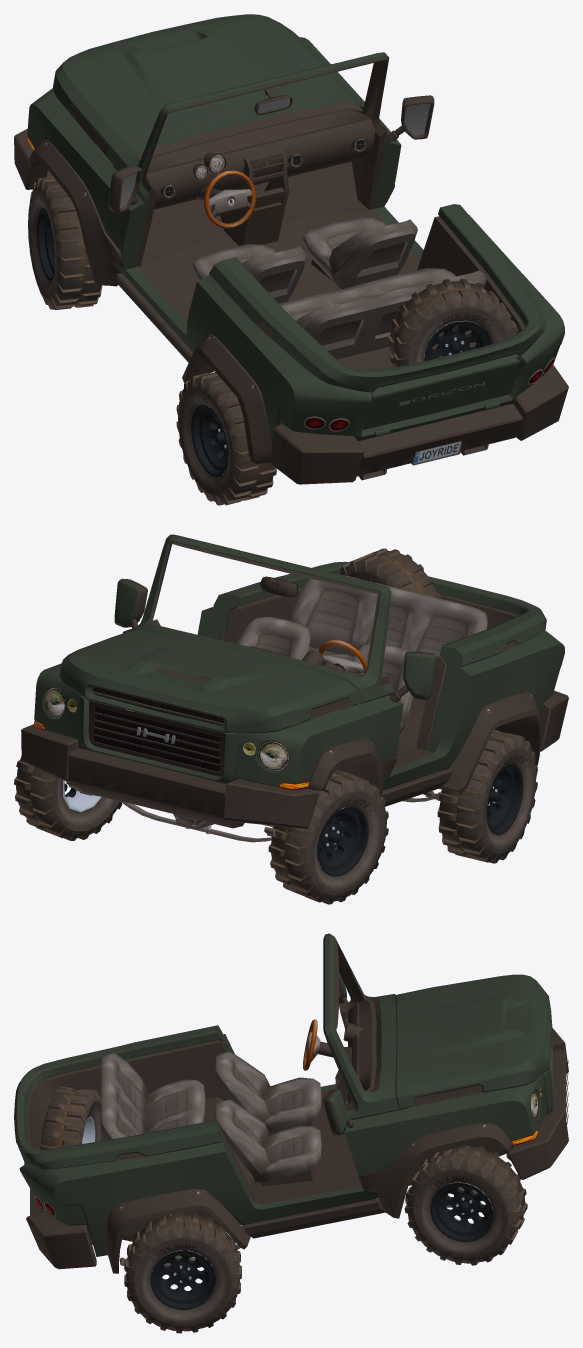
The model's file is gaadi.glb.
3 views of the same model, one above another, from view 1: azimuth 30°, elevation 25°; view 2: azimuth 150°, elevation 25°; view 3: azimuth 270°, elevation 25° (orthographic). The views are drawn at different scales.
Visible parts, largest first — view 1: node_id109, node_id107, node_id136, node_id98, node_id74, node_id66, node_id81, node_id77, node_id79, node_id62, node_id64, node_id40 (+6 smaller); view 2: node_id109, node_id107, node_id98, node_id117, node_id81, node_id74, node_id136, node_id70, node_id95, node_id72, node_id66, node_id77 (+8 smaller); view 3: node_id109, node_id107, node_id136, node_id98, node_id95, node_id88, node_id84, node_id91, node_id86, node_id93, node_id66, node_id38 (+1 smaller).
Boxes of the visible parts, left/top/right/bottom form: node_id109: left=27, top=14, right=564, bottom=441; node_id107: left=14, top=58, right=568, bottom=484; node_id136: left=193, top=217, right=417, bottom=303; node_id98: left=279, top=268, right=486, bottom=359; node_id74: left=29, top=176, right=102, bottom=309; node_id66: left=386, top=279, right=518, bottom=367; node_id81: left=176, top=372, right=276, bottom=505; node_id77: left=178, top=388, right=233, bottom=495; node_id79: left=191, top=405, right=228, bottom=477; node_id62: left=408, top=307, right=509, bottom=364; node_id64: left=424, top=320, right=492, bottom=360; node_id40: left=110, top=96, right=434, bottom=213; node_id109: left=34, top=534, right=564, bottom=788; node_id107: left=21, top=541, right=568, bottom=828; node_id98: left=289, top=574, right=487, bottom=700; node_id117: left=88, top=685, right=226, bottom=776; node_id81: left=437, top=729, right=537, bottom=863; node_id74: left=268, top=769, right=388, bottom=904; node_id136: left=236, top=617, right=413, bottom=733; node_id70: left=308, top=791, right=384, bottom=894; node_id95: left=14, top=756, right=122, bottom=840; node_id72: left=317, top=806, right=368, bottom=876; node_id66: left=339, top=548, right=440, bottom=598; node_id77: left=481, top=747, right=535, bottom=853; node_id109: left=14, top=933, right=553, bottom=1256; node_id107: left=26, top=937, right=568, bottom=1273; node_id136: left=214, top=1051, right=321, bottom=1182; node_id98: left=100, top=1053, right=205, bottom=1139; node_id95: left=404, top=1145, right=527, bottom=1265; node_id88: left=124, top=1212, right=241, bottom=1333; node_id84: left=134, top=1238, right=231, bottom=1325; node_id91: left=413, top=1169, right=508, bottom=1258; node_id86: left=150, top=1250, right=215, bottom=1309; node_id93: left=430, top=1182, right=493, bottom=1242; node_id66: left=40, top=1086, right=104, bottom=1149; node_id38: left=330, top=972, right=346, bottom=1134.
Bounding box in the file's own units: 0.4963 × 0.4777 × 0.8308.
48 materials, 48 textured.
